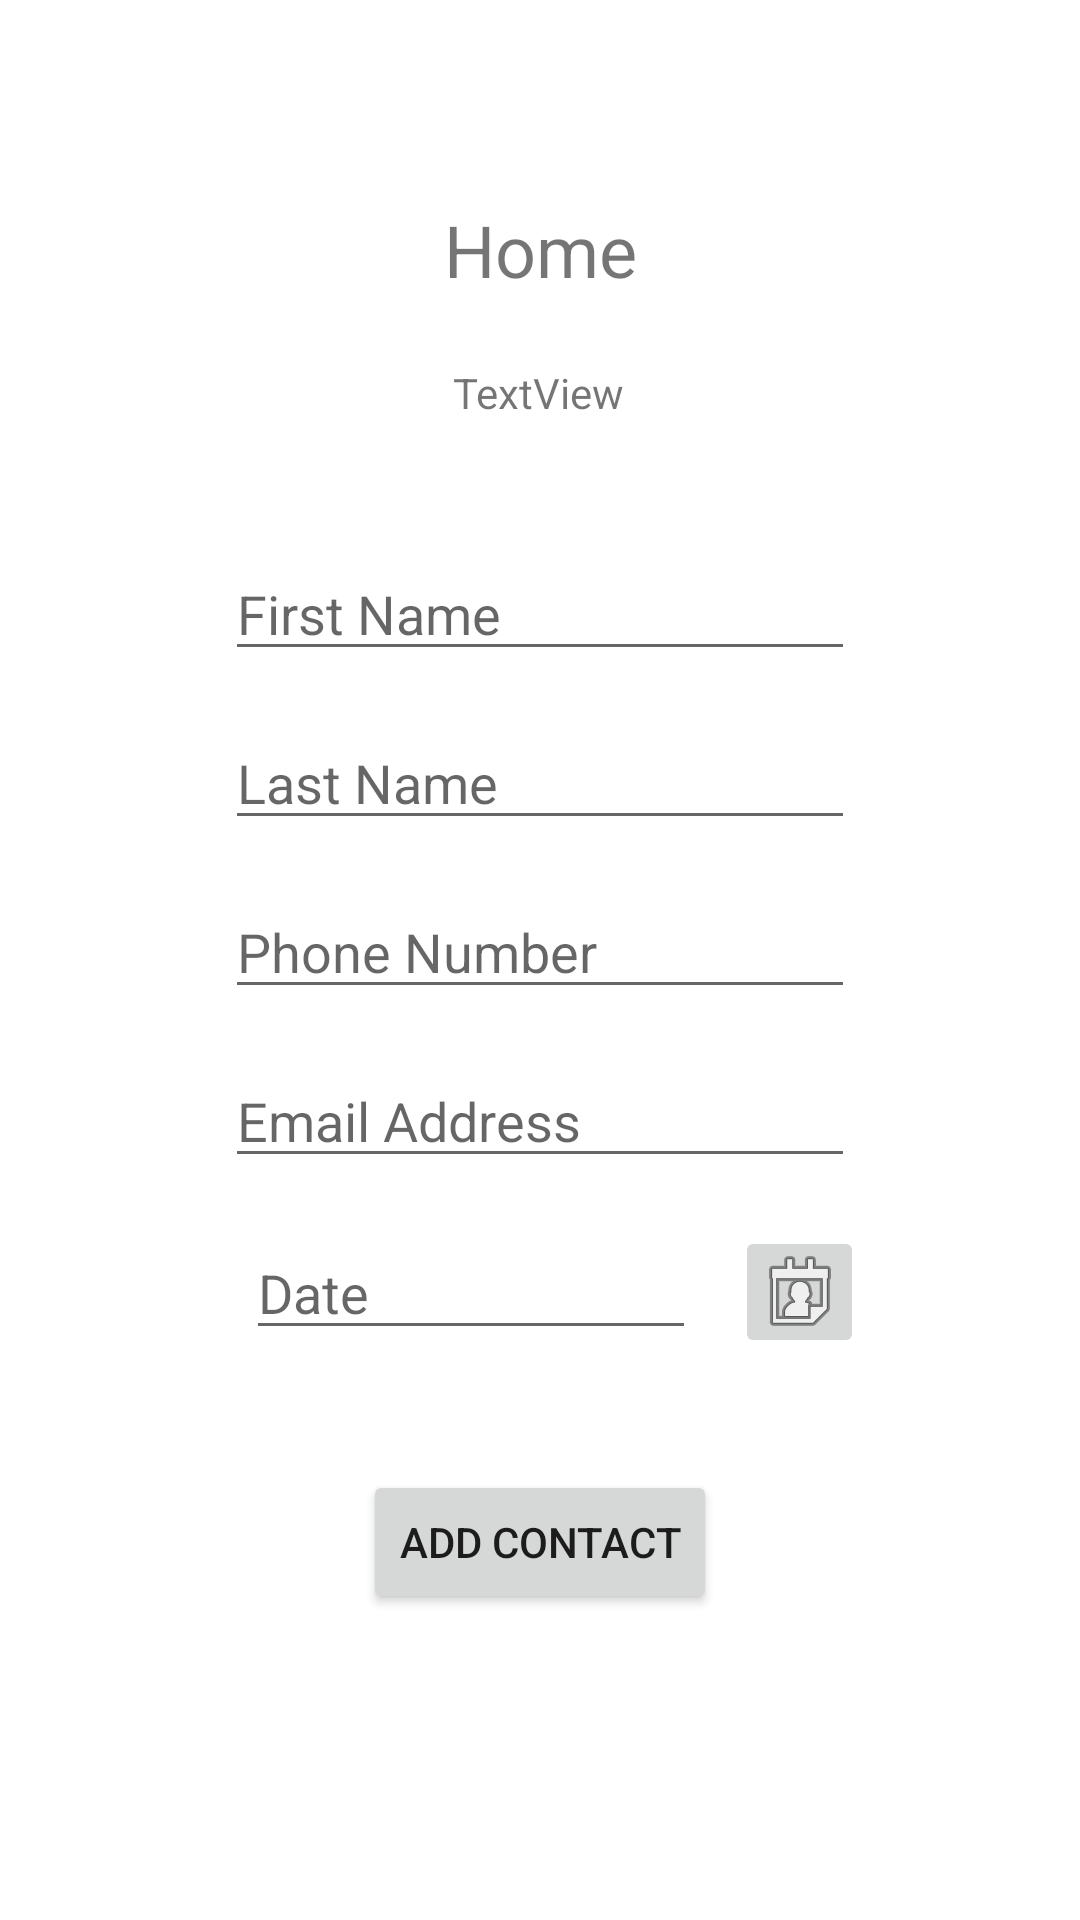

Screen size 1080 x 1920. Icon name, then its center in pixels as (x=x, y=y):
calendar: (x=799, y=1292)
